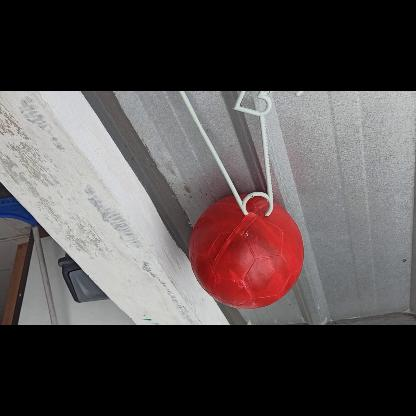red_ball: (190, 194, 304, 308)
